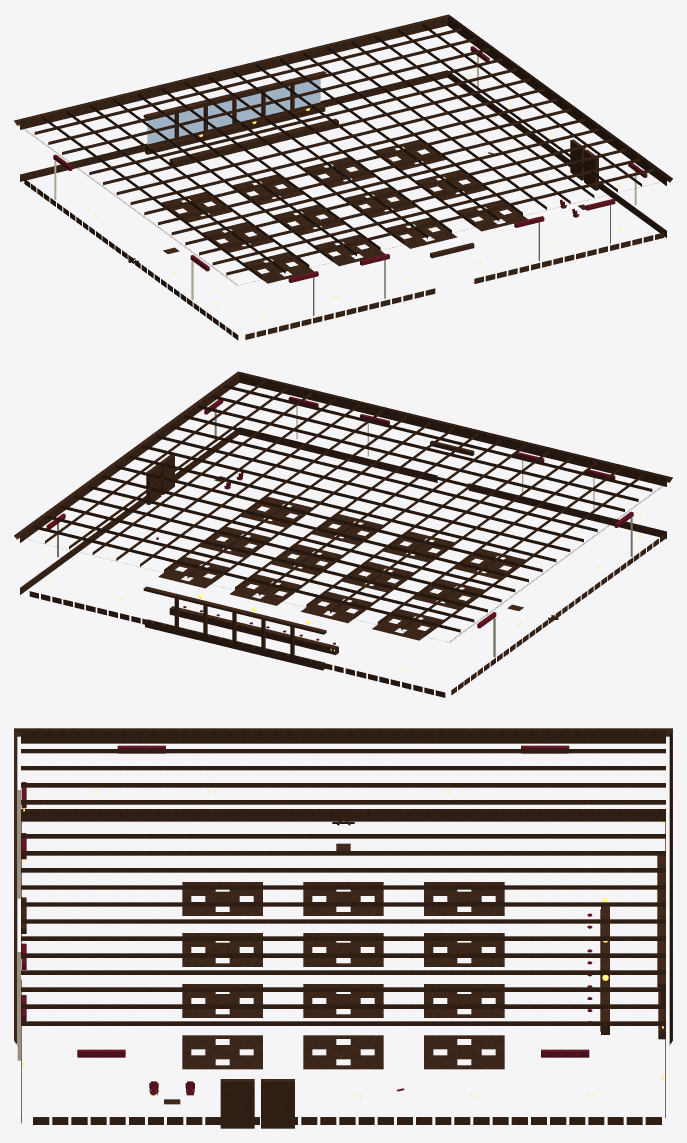
The model's file is lb4_lounge_p1.glb.
The picture shows the model from 3 angles, top to bottom: view 1: azimuth 30°, elevation 25°; view 2: azimuth 150°, elevation 25°; view 3: azimuth 270°, elevation 25°; orthographic projection. The views are drawn at different scales.
Parts seen in each view (by area): view 1: lb4_lounge_p1; view 2: lb4_lounge_p1; view 3: lb4_lounge_p1.
Part boxes in pixels (x1,y1,x2,y2): lb4_lounge_p1: (14,14,672,340); lb4_lounge_p1: (14,371,672,697); lb4_lounge_p1: (14,728,672,1128).
Bounding box in the file's own units: 73.24 × 10 × 65.4.
7 materials, 3 textured.
